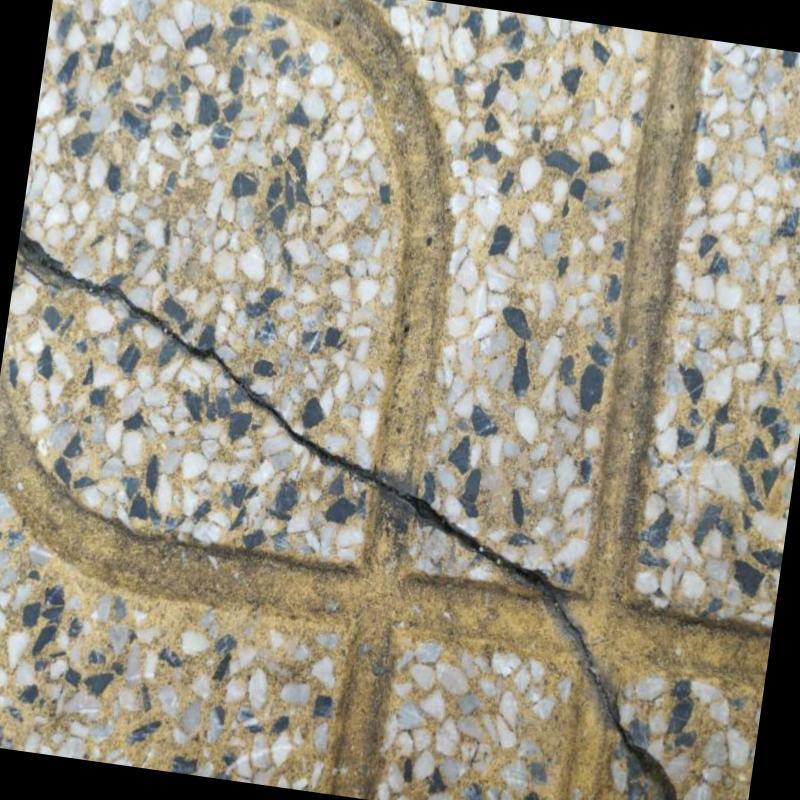crack: (17, 230, 679, 800)
